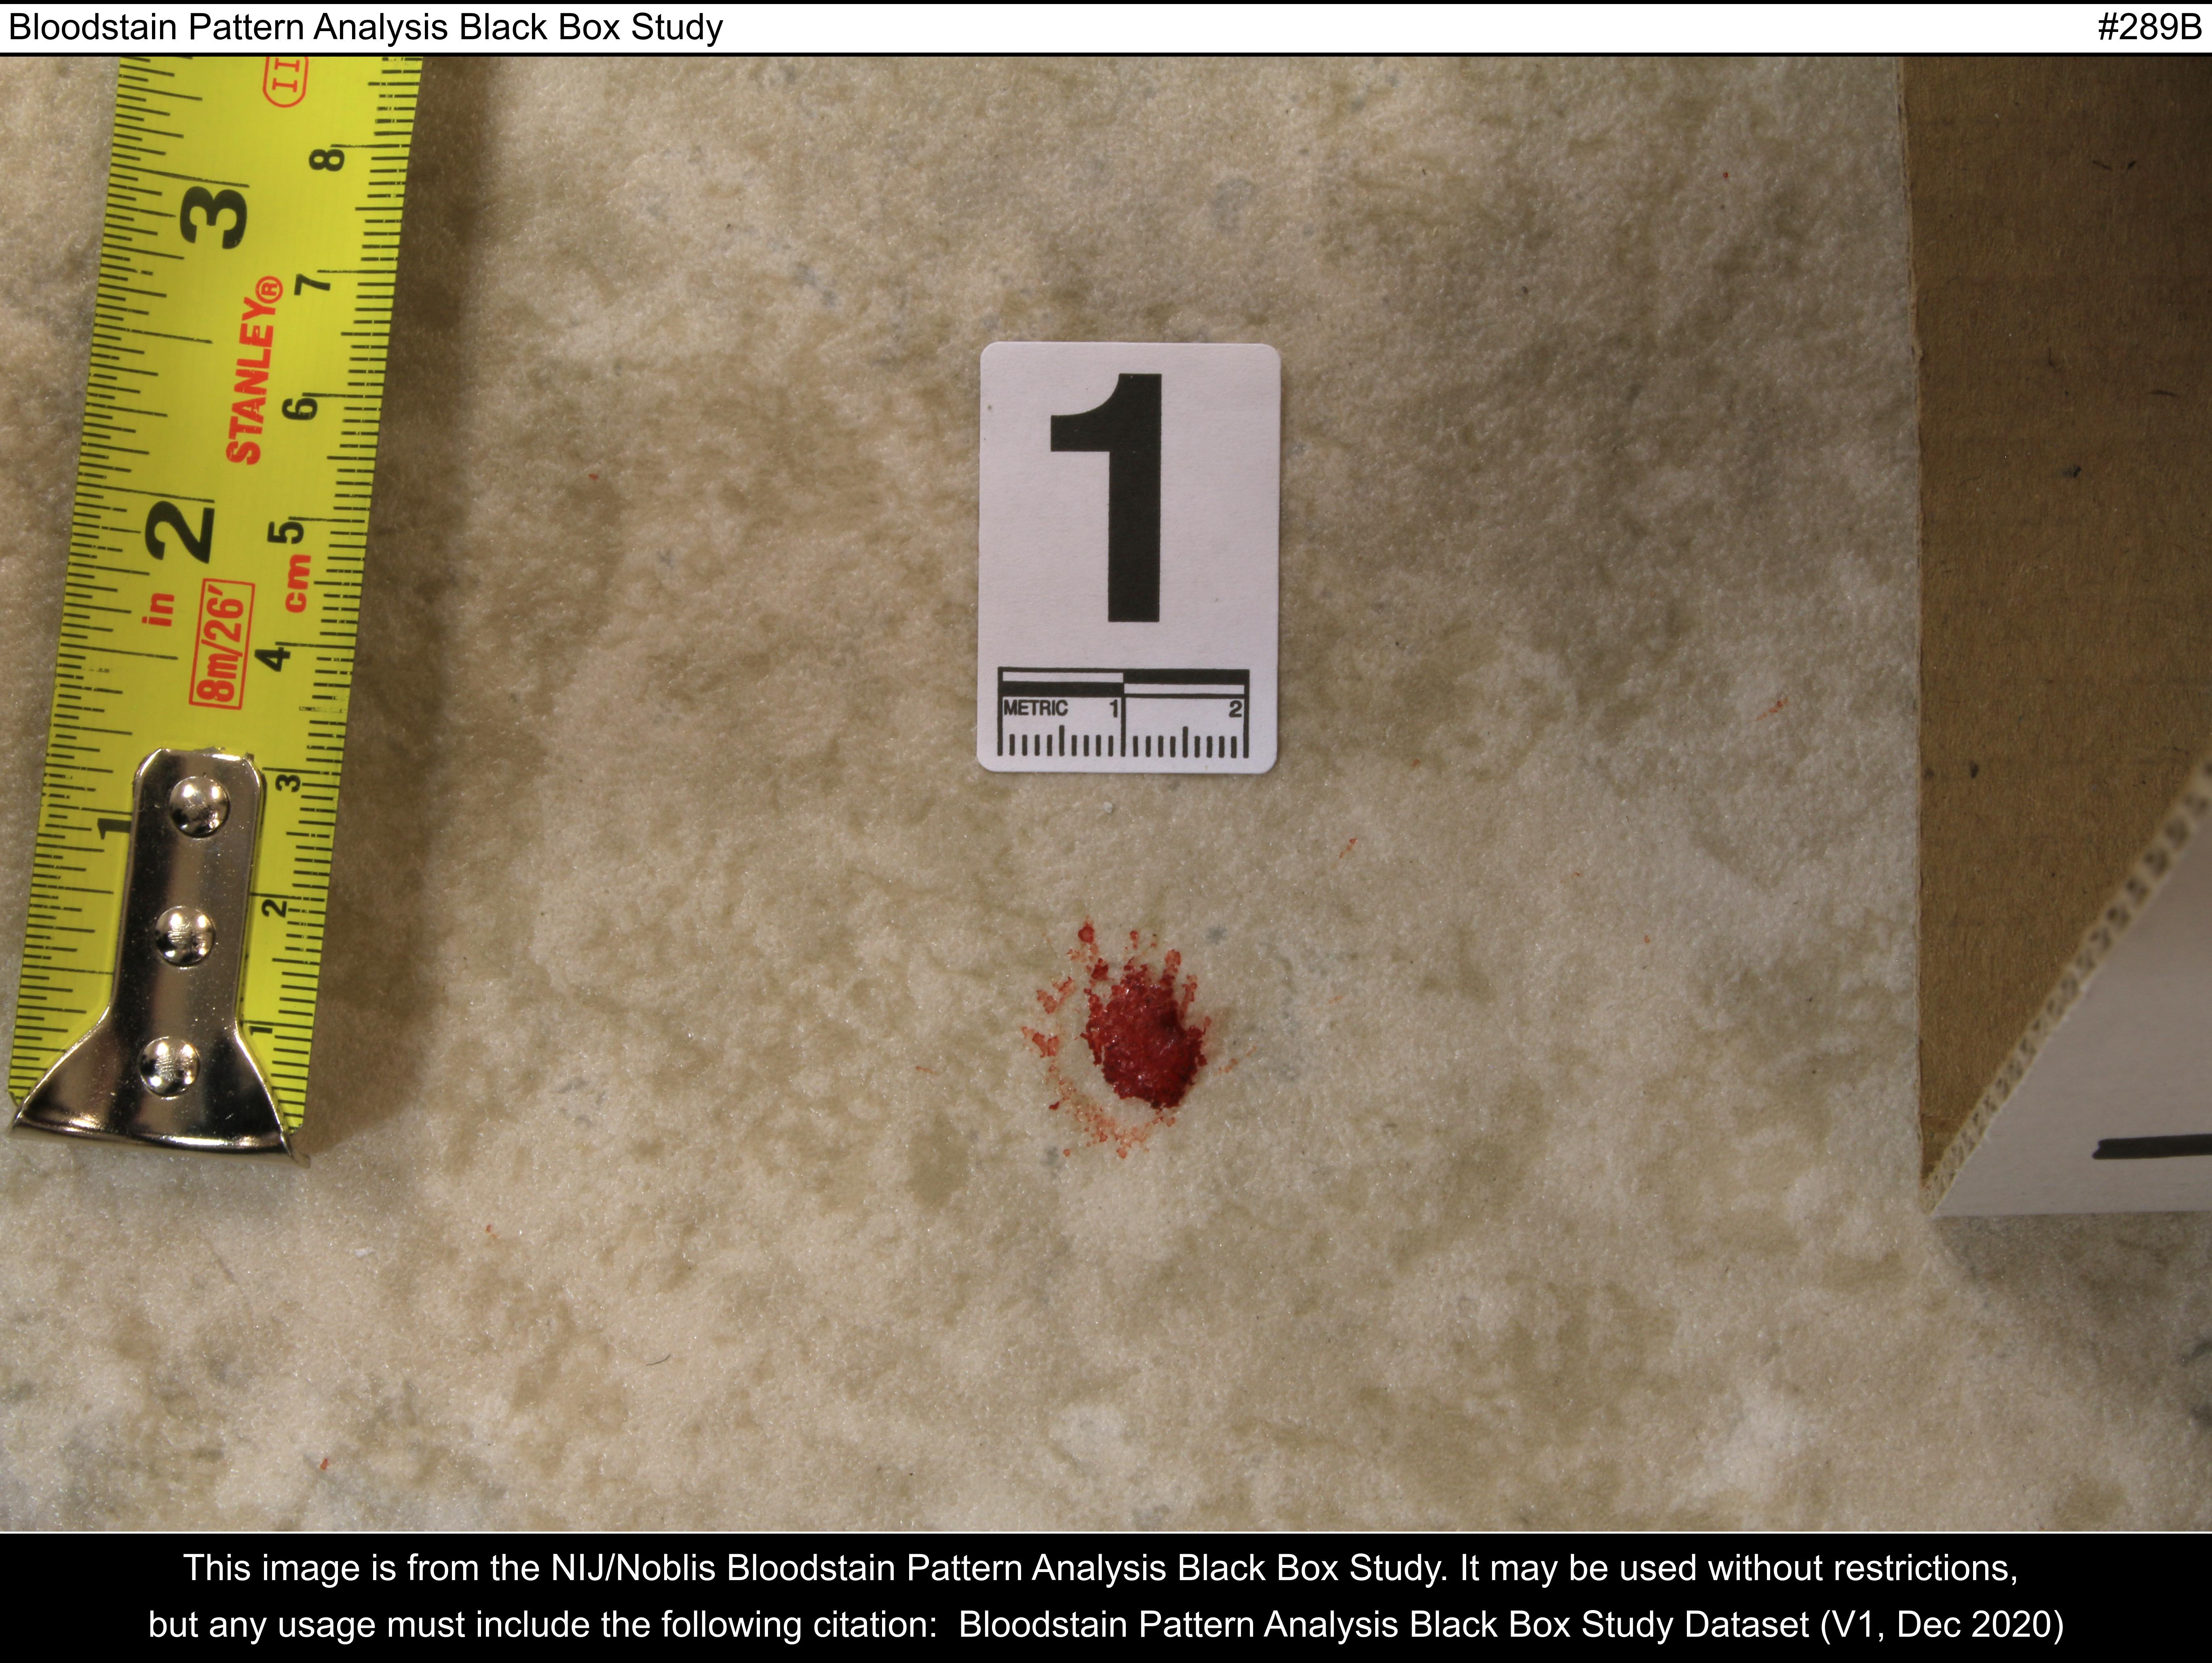Passive: (985, 898, 1255, 1197)
